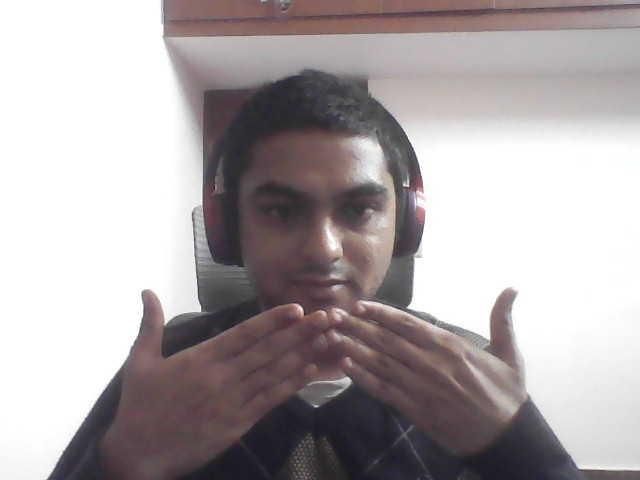Thank You: (83, 279, 544, 470)
